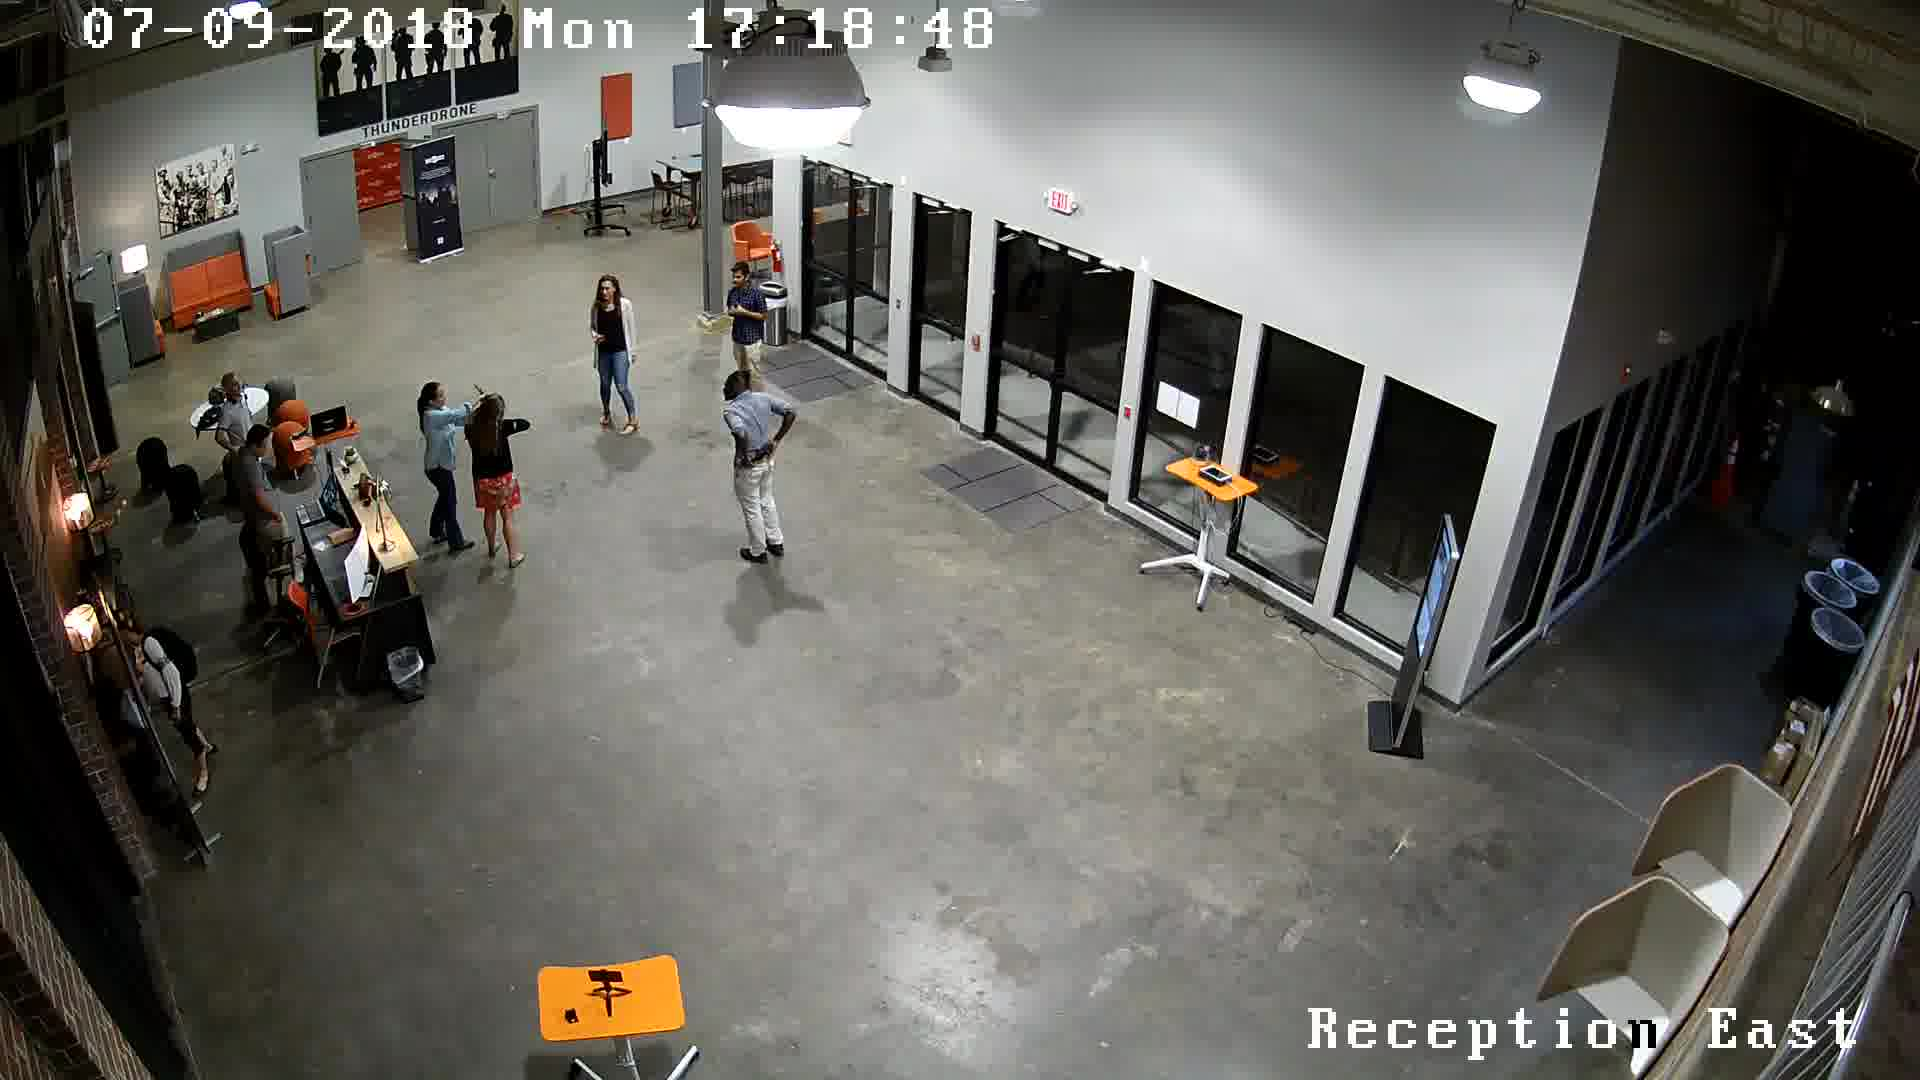pistol: (720, 294, 749, 324)
